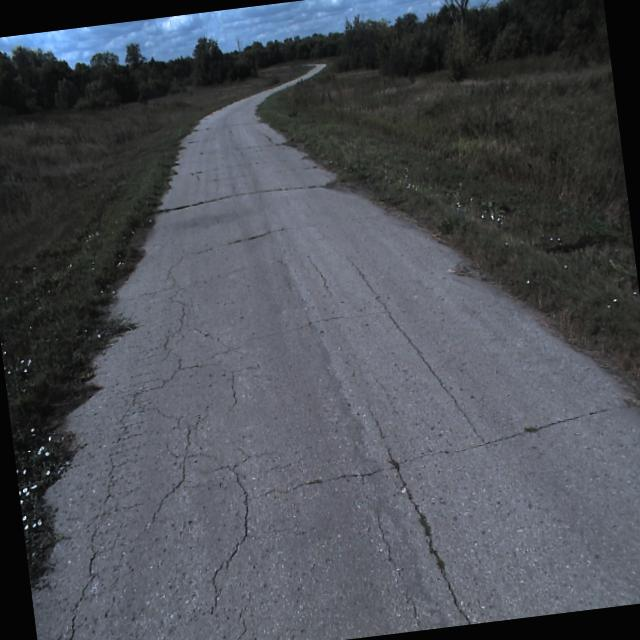road: (31, 63, 640, 640)
